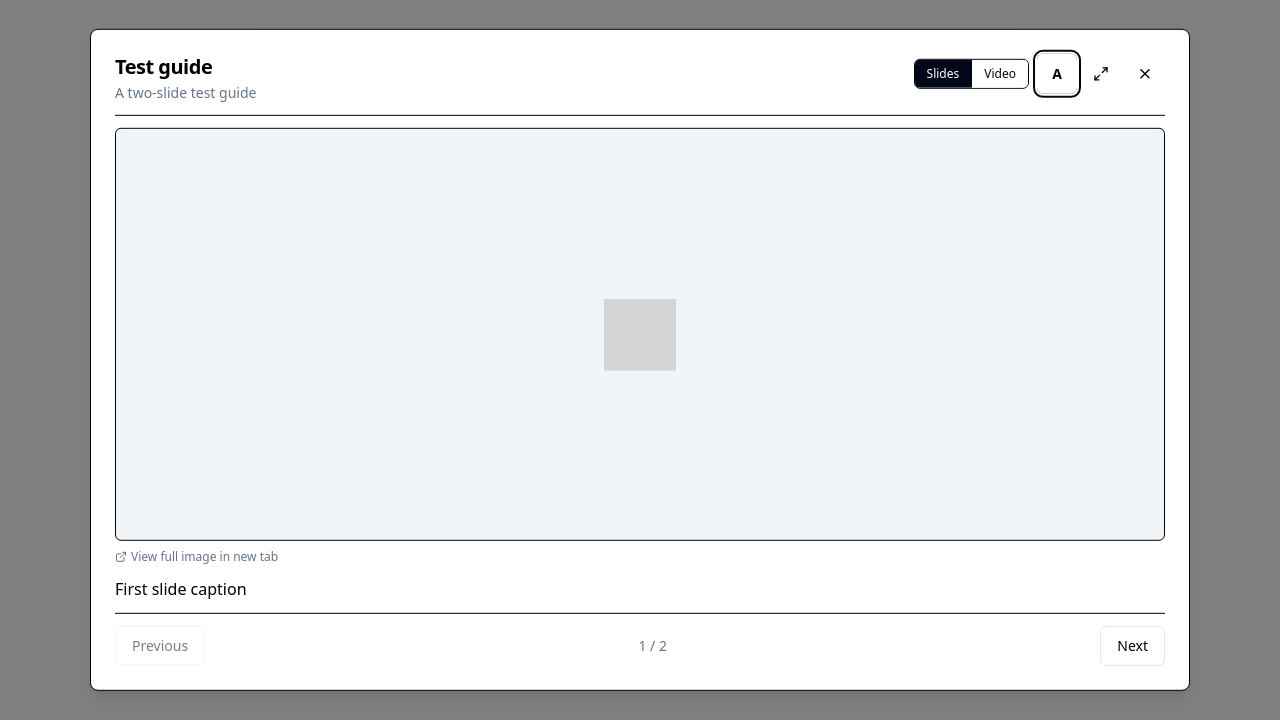
Scenario: <GuideViewer> › navigates forward + backward with the prev/next buttons
This screenshot has width=1280, height=720.
Expected: the element with test id "guide-slide-caption" reads "First slide caption", x1=115 y1=578 x2=247 y2=600
Expected: the button with test id "guide-prev" is disabled, x1=115 y1=626 x2=205 y2=666
Click the button with test id "guide-next".
click(1133, 646)  # box x1=1100 y1=626 x2=1165 y2=666
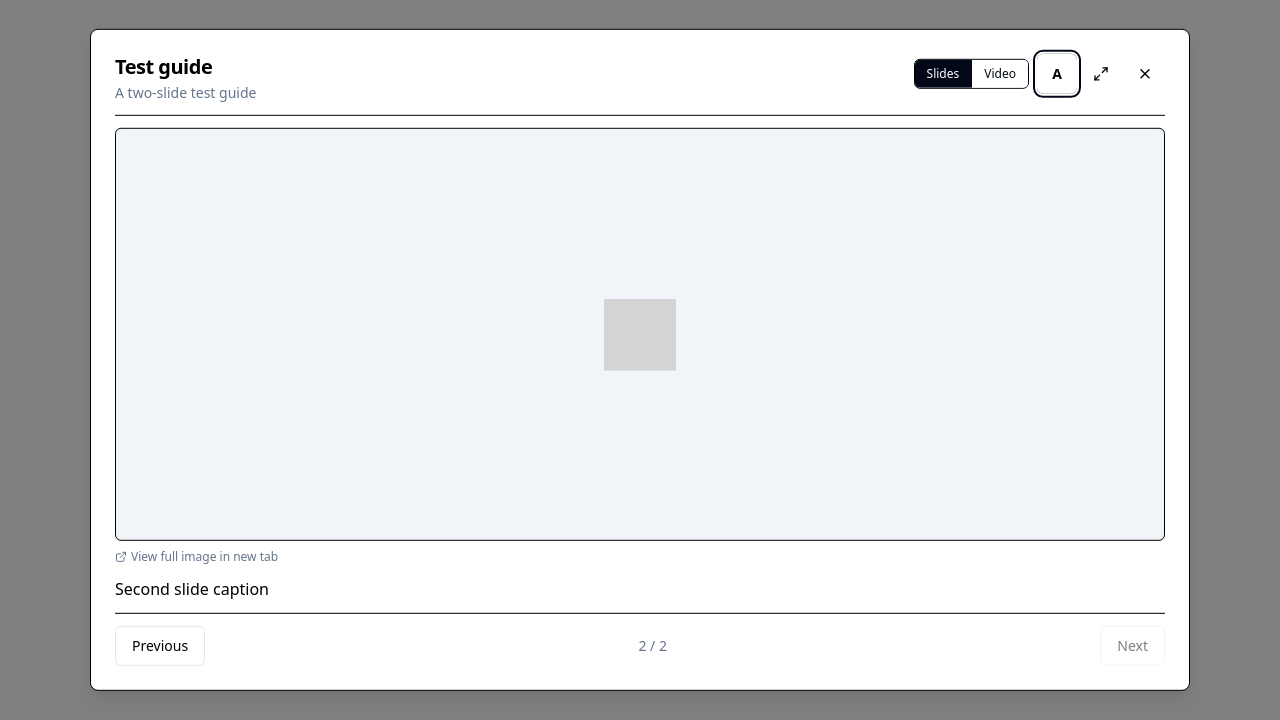
Now the element with test id "guide-slide-caption" reads "Second slide caption", box x1=115 y1=578 x2=269 y2=600
Now the text with test id "guide-counter" reads "2 / 2", box x1=638 y1=636 x2=667 y2=656
Now the button with test id "guide-next" is disabled, box x1=1100 y1=626 x2=1165 y2=666
Click the button with test id "guide-prev".
click(160, 646)  # box x1=115 y1=626 x2=205 y2=666
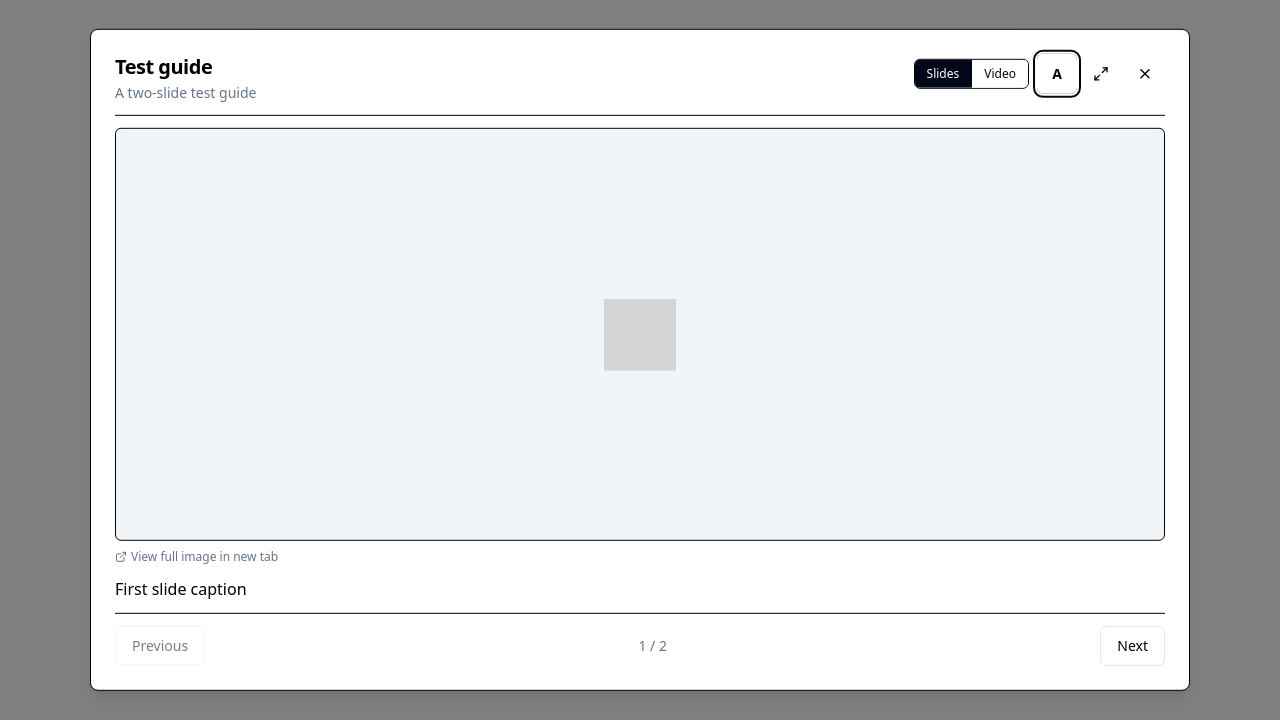
Now the element with test id "guide-slide-caption" reads "First slide caption", box x1=115 y1=578 x2=247 y2=600
